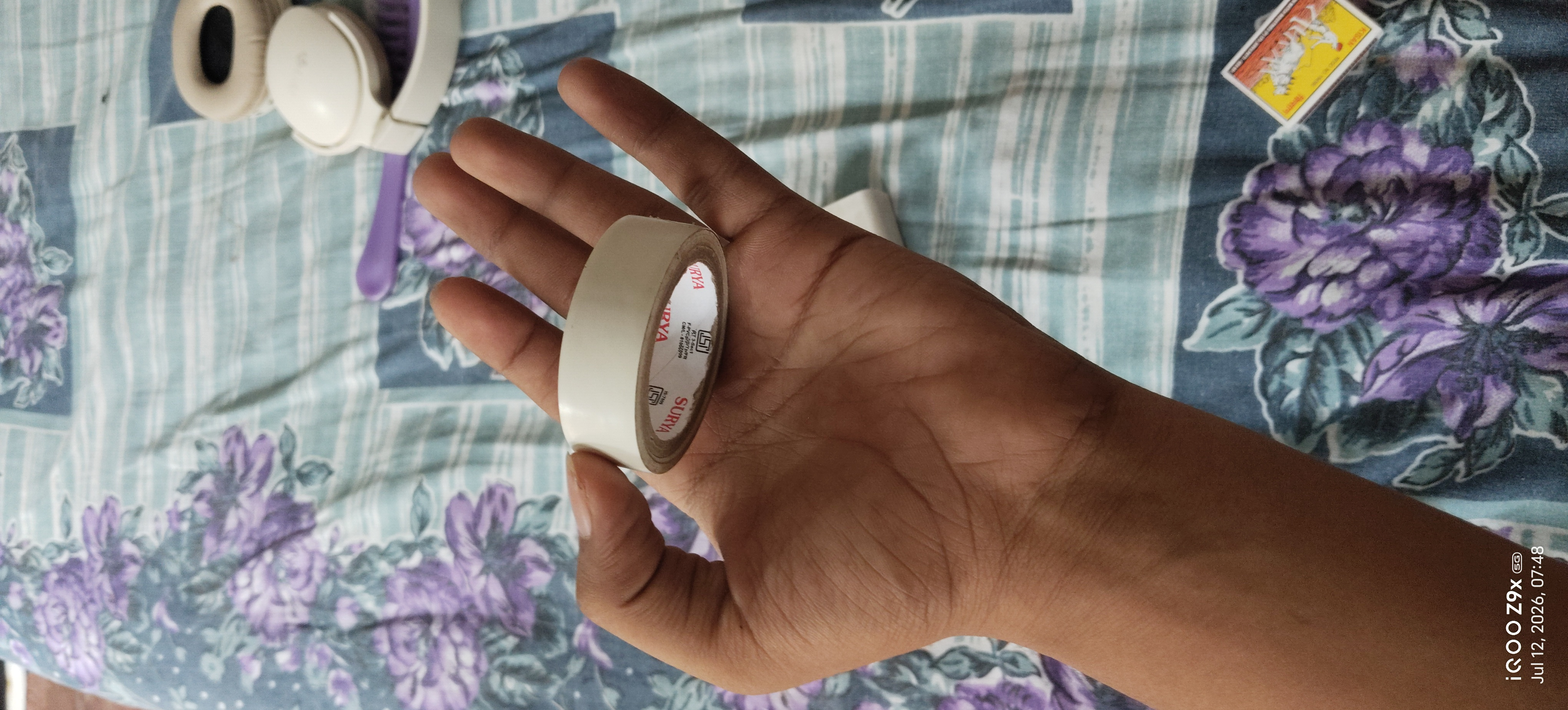matchbox: (1201, 0, 1397, 161)
tape_roll: (497, 156, 760, 509)
